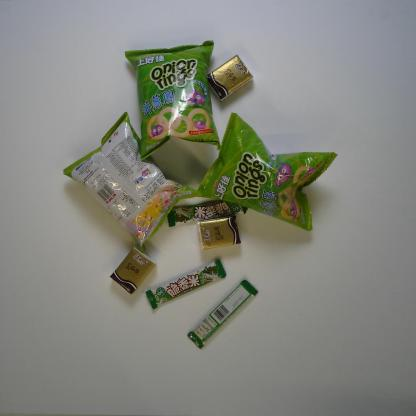Chocolate: (186, 278, 259, 352), (145, 258, 227, 311), (166, 199, 249, 228)
Puffed Food: (62, 111, 206, 253), (196, 112, 338, 232), (124, 40, 221, 162)
Tissue: (109, 244, 156, 296), (207, 54, 254, 102), (195, 214, 242, 251)
